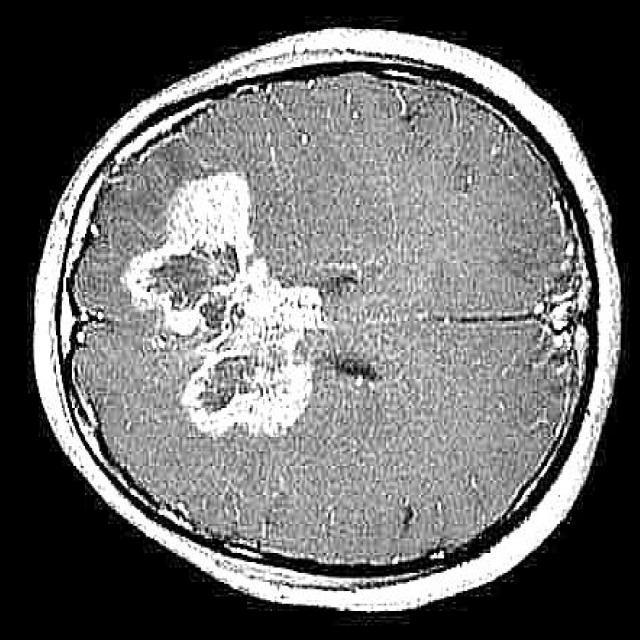tumor: (122, 176, 321, 433)
